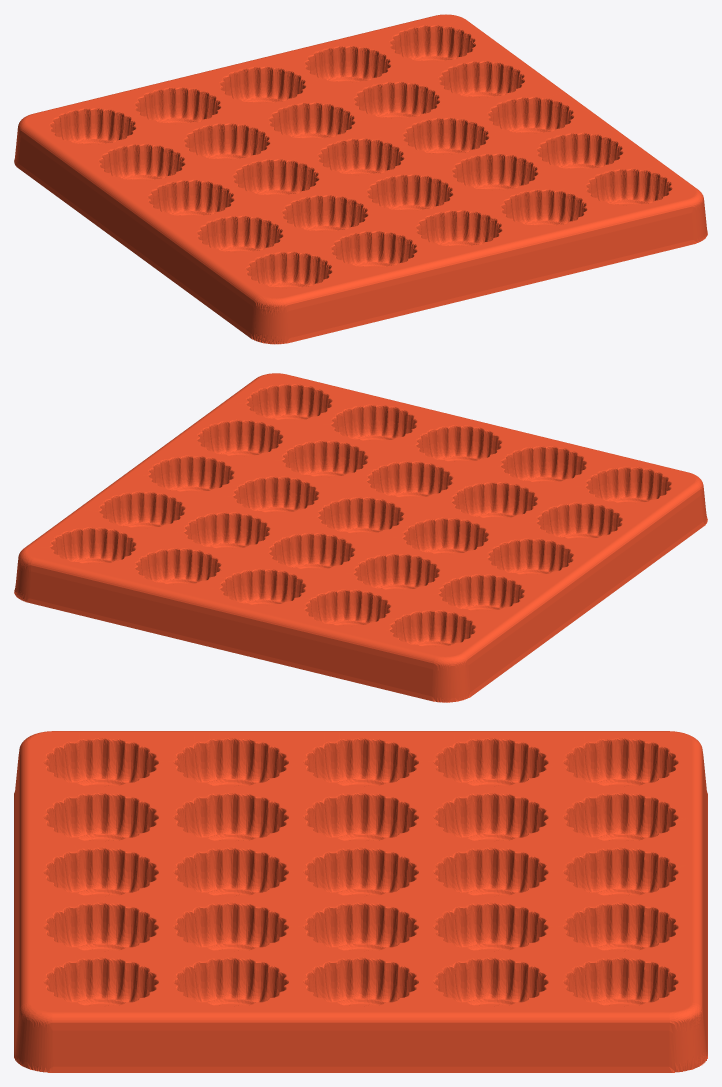
The model's file is mold.glb.
3 renders of one model, top to bottom at view 1: azimuth 30°, elevation 25°; view 2: azimuth 150°, elevation 25°; view 3: azimuth 270°, elevation 25°, orthographic. The views are drawn at different scales.
Parts seen in each view (by area): view 1: geometry_0; view 2: geometry_0; view 3: geometry_0.
Boxes of the visible parts, bbox=[...] form: geometry_0: bbox=[14, 14, 707, 344]; geometry_0: bbox=[14, 373, 707, 702]; geometry_0: bbox=[14, 731, 707, 1072].
Bounding box in the file's own units: 0.1584 × 0.0136 × 0.1584.
